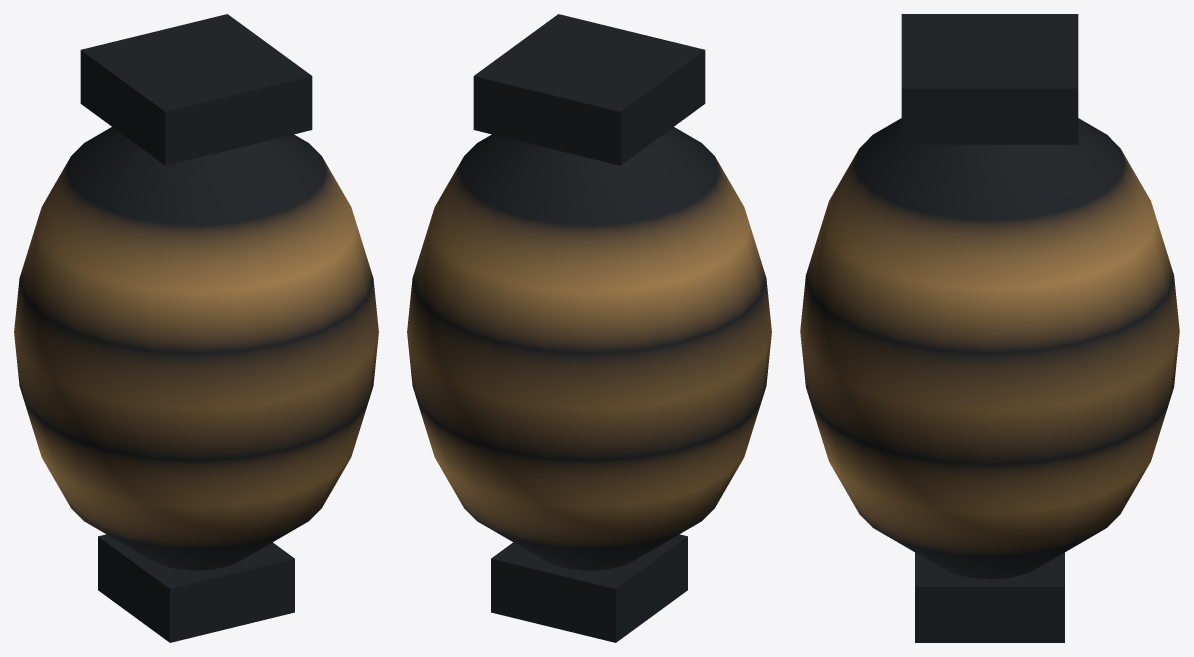
The model's file is lantern_hanging.glb.
The picture shows the model from 3 angles, left to right: view 1: azimuth 30°, elevation 25°; view 2: azimuth 150°, elevation 25°; view 3: azimuth 270°, elevation 25°; orthographic projection. The views are drawn at different scales.
Parts seen in each view (by area): view 1: kit_lantern_hanging; view 2: kit_lantern_hanging; view 3: kit_lantern_hanging.
Boxes of the visible parts, left/top/right/bottom form: kit_lantern_hanging: left=14, top=14, right=378, bottom=642; kit_lantern_hanging: left=407, top=14, right=771, bottom=642; kit_lantern_hanging: left=800, top=14, right=1179, bottom=642.
Size of the model in its own units: 0.43 by 0.7 by 0.43.
